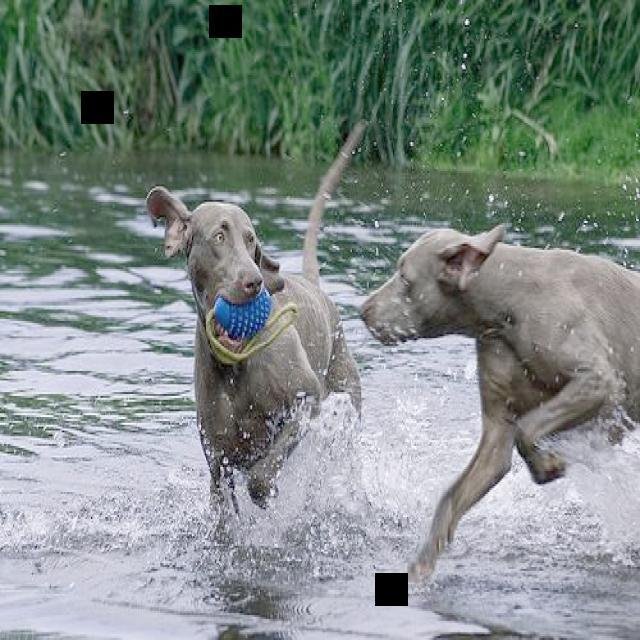adult_dog: (359, 225, 640, 588), (144, 119, 368, 550)
